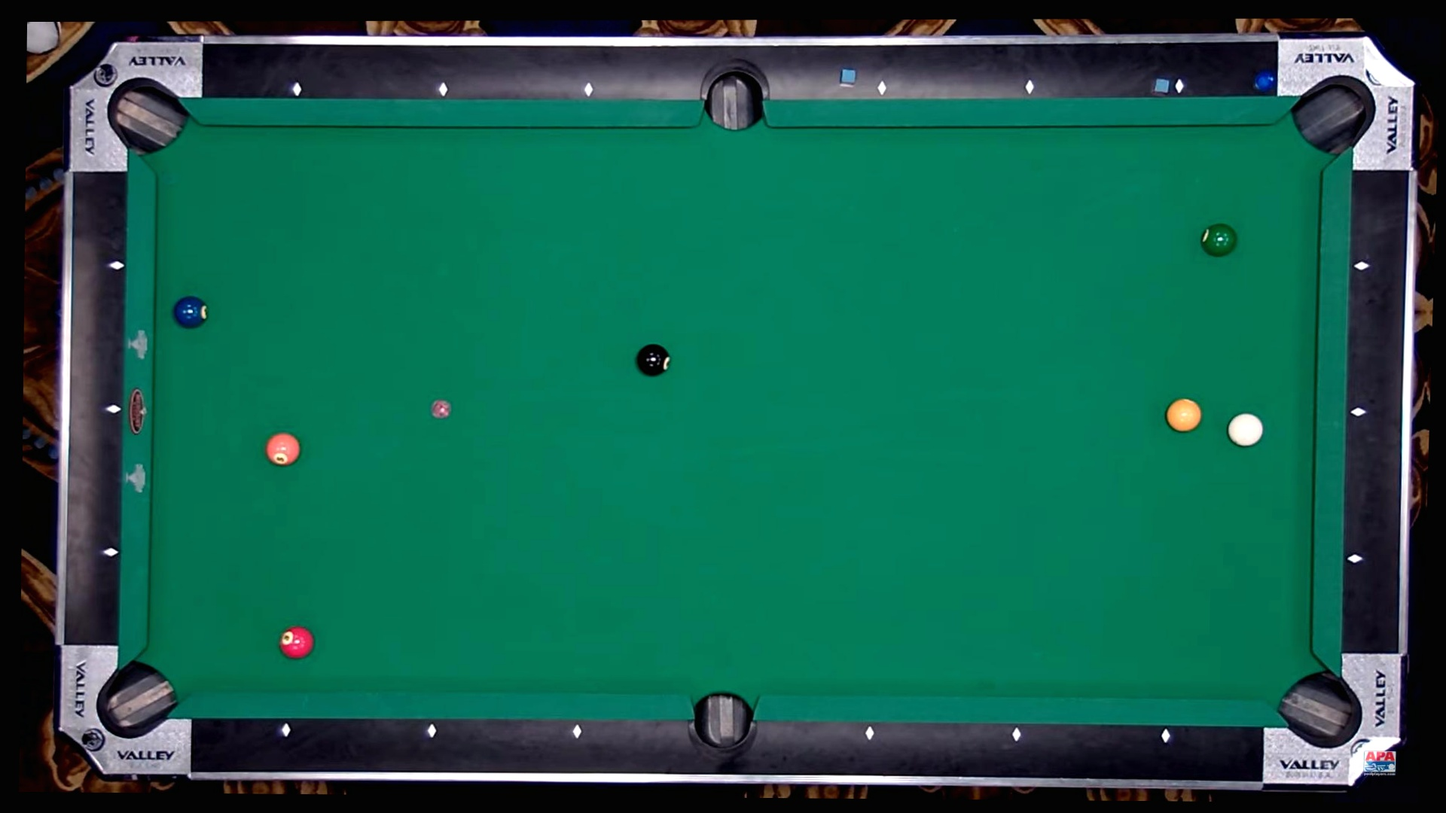Black: (108, 403, 119, 414), (292, 84, 303, 95), (583, 85, 594, 96), (1024, 82, 1035, 93), (1174, 81, 1185, 92), (864, 728, 875, 739), (111, 259, 121, 270), (1350, 554, 1360, 565), (1010, 729, 1020, 740), (426, 726, 437, 736), (281, 725, 291, 736), (105, 548, 115, 558), (438, 86, 448, 96), (877, 83, 887, 93), (1356, 261, 1366, 271), (1354, 407, 1364, 417), (1160, 731, 1170, 741), (571, 726, 581, 736)
Cue: (1201, 222, 1238, 257), (1166, 398, 1202, 432), (265, 432, 300, 466), (174, 295, 209, 329), (279, 626, 315, 659)
Solid: (635, 343, 672, 376)
Stripe: (1227, 412, 1264, 447)
